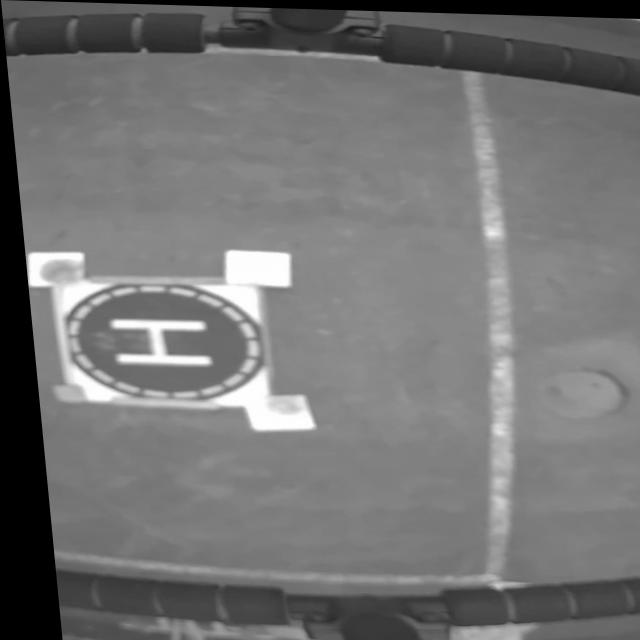Helipad: (100, 318, 209, 366)
